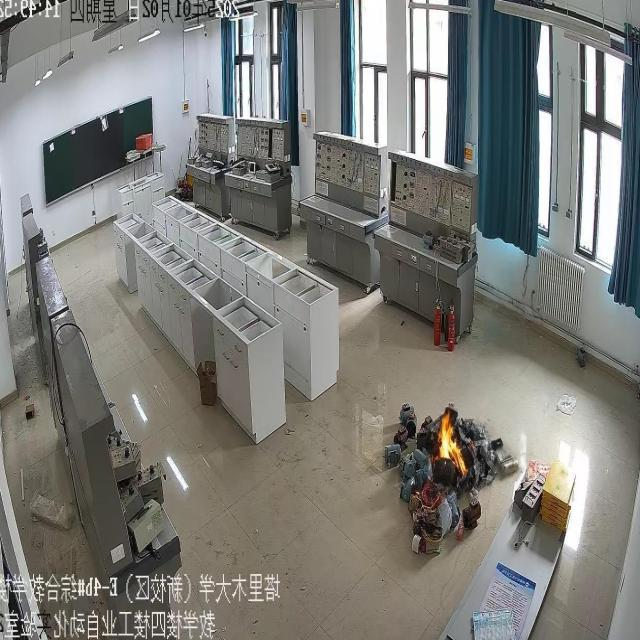smoke: (435, 410, 468, 477)
